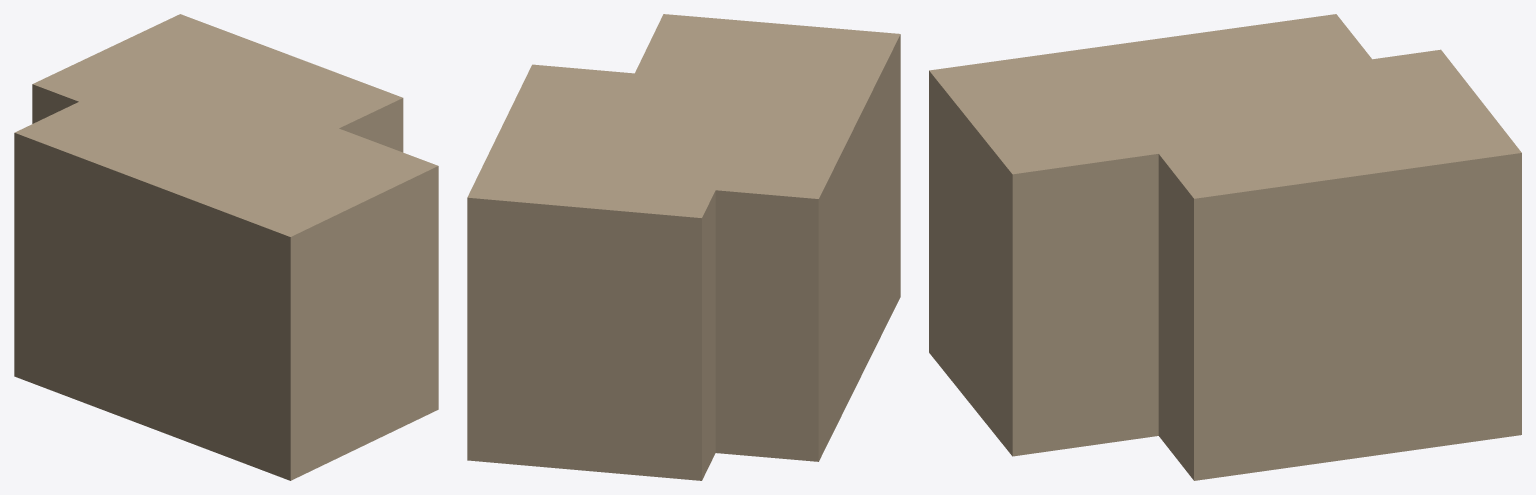
Rendered from bld_107639280.dae.
3 views of the same model, side by side, from view 1: azimuth 30°, elevation 25°; view 2: azimuth 150°, elevation 25°; view 3: azimuth 270°, elevation 25° (orthographic). The views are drawn at different scales.
Visible parts, largest first — view 1: bld_107639280; view 2: bld_107639280; view 3: bld_107639280.
Boxes of the visible parts, x1,y1,x2,y2 form: bld_107639280: [14, 14, 438, 480]; bld_107639280: [467, 14, 900, 480]; bld_107639280: [929, 14, 1521, 480].
Size of the model in its own units: 11.24 by 15.24 by 8.
